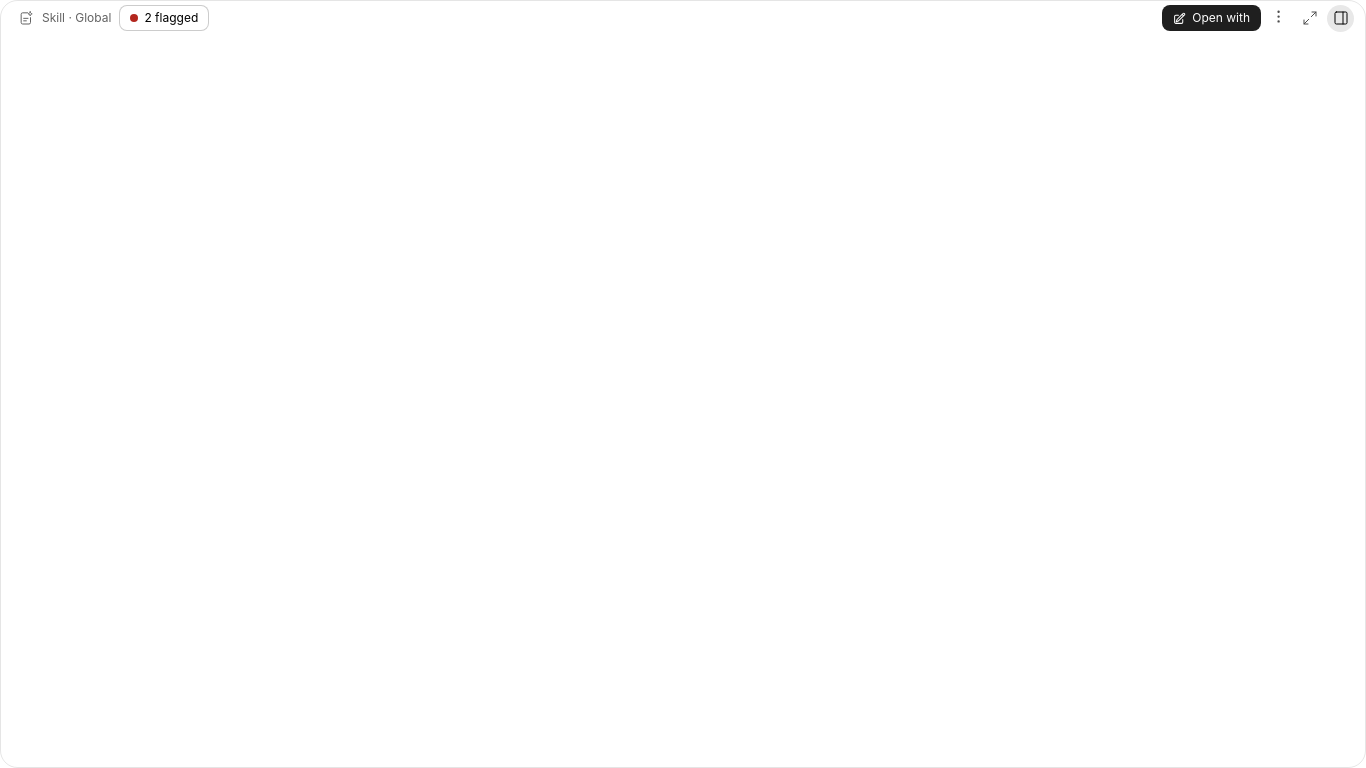
Test: InspectorCap › severities each popover line on its own issue, not on the asset's aggregate
Click the button "2 flagged" at (164, 18), box [119,5,209,31]
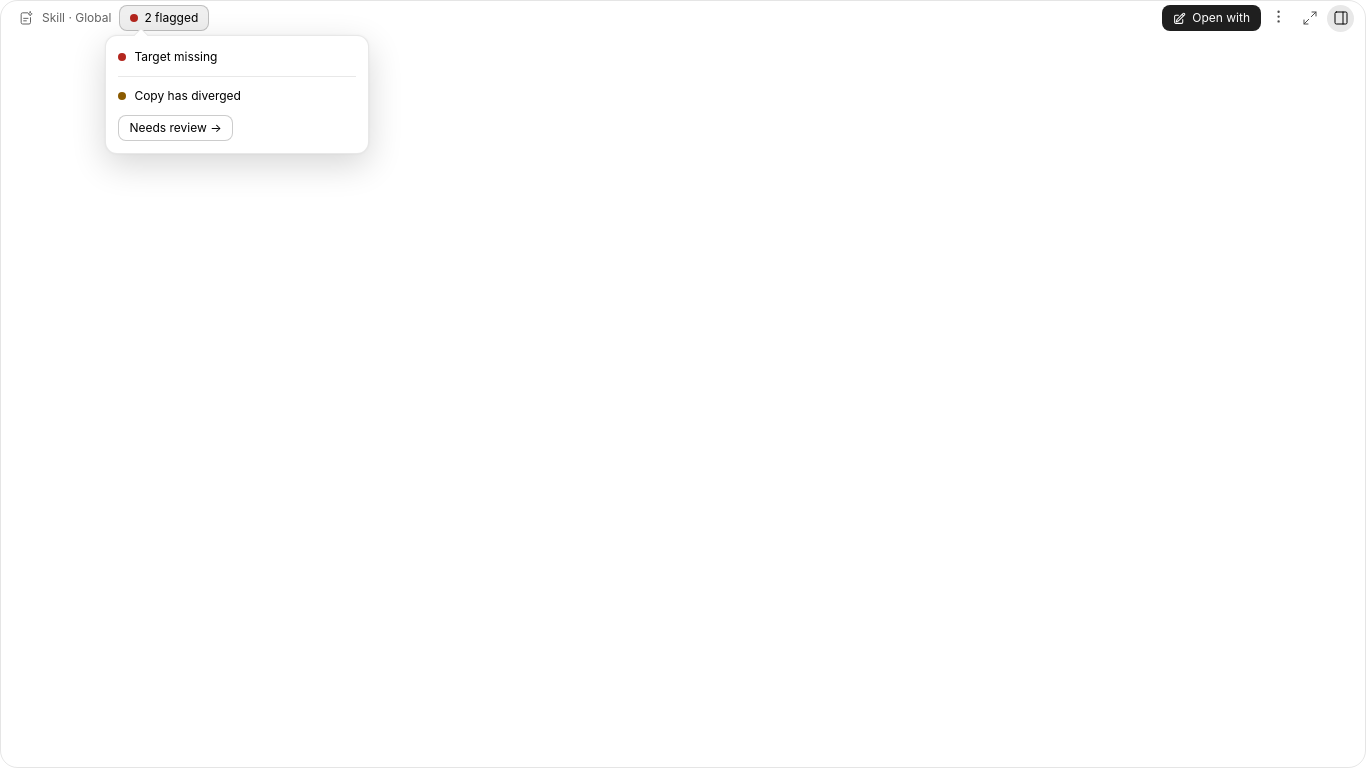
Expected: the list item with test id "finding-popover-line" reads "Target missing", [134,49,217,64]
Expected: the list item with test id "finding-popover-line" reads "Copy has diverged", [134,88,241,103]
